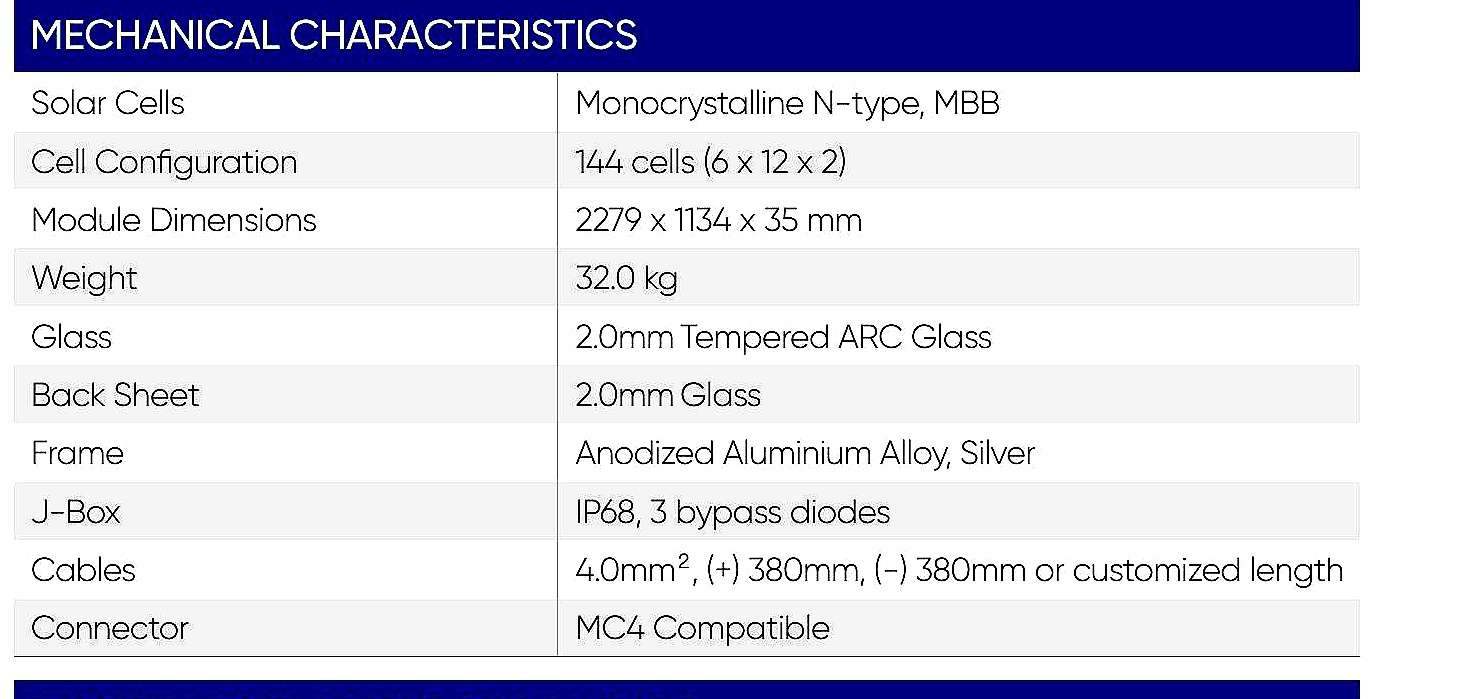table: (6, 2, 1368, 662)
table column: (561, 4, 1362, 653), (12, 3, 561, 659)
table name: (15, 4, 1362, 68)
table row: (10, 3, 1358, 68), (8, 311, 1362, 371), (11, 251, 1363, 308), (8, 488, 1361, 543), (10, 74, 1359, 129), (11, 191, 1361, 245), (9, 432, 1363, 484), (9, 548, 1361, 600), (10, 604, 1362, 656), (11, 133, 1360, 184), (9, 376, 1362, 426)
table row header: (10, 5, 557, 654)
table spanning cell: (13, 4, 1359, 70)
